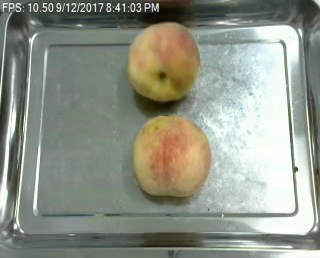Peach: (130, 114, 212, 197), (128, 22, 200, 101)
